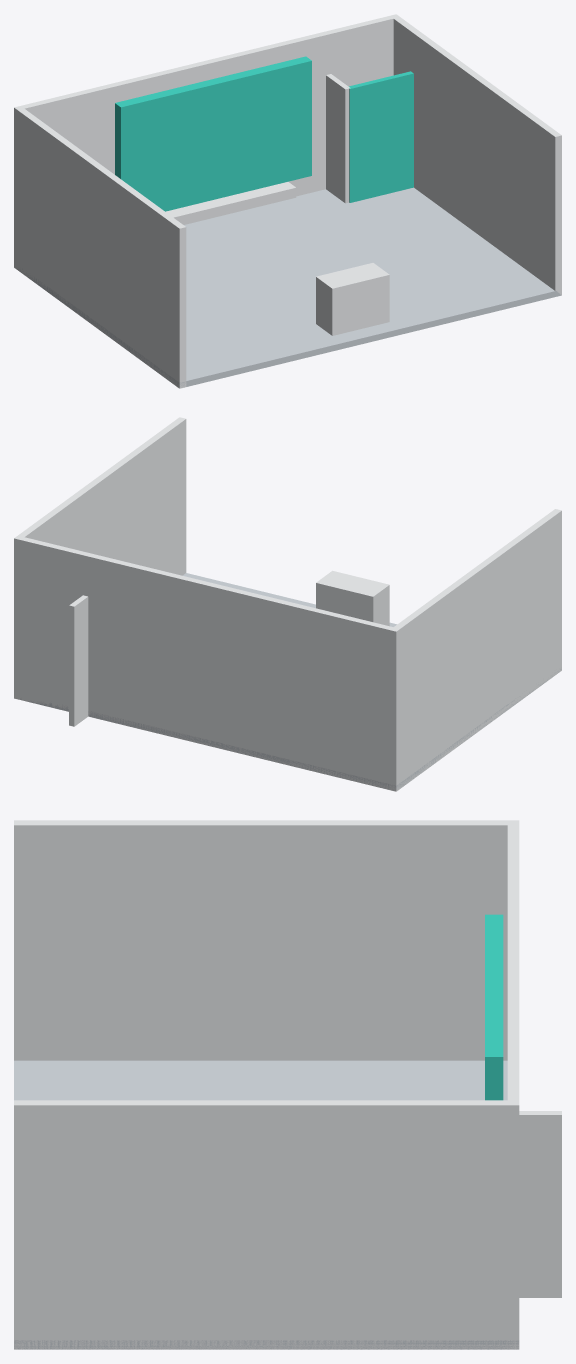
The picture shows the model from 3 angles, top to bottom: view 1: azimuth 30°, elevation 25°; view 2: azimuth 150°, elevation 25°; view 3: azimuth 270°, elevation 25°; orthographic projection. The views are drawn at different scales.
Parts seen in each view (by area): view 1: Exhibition Booth Concept; view 2: Exhibition Booth Concept; view 3: Exhibition Booth Concept.
Part boxes in pixels (bbox=[...]): Exhibition Booth Concept: bbox=[14, 14, 561, 388]; Exhibition Booth Concept: bbox=[14, 417, 561, 791]; Exhibition Booth Concept: bbox=[14, 820, 561, 1349].
Size of the model in its own units: 8 by 3.2 by 6.51.
